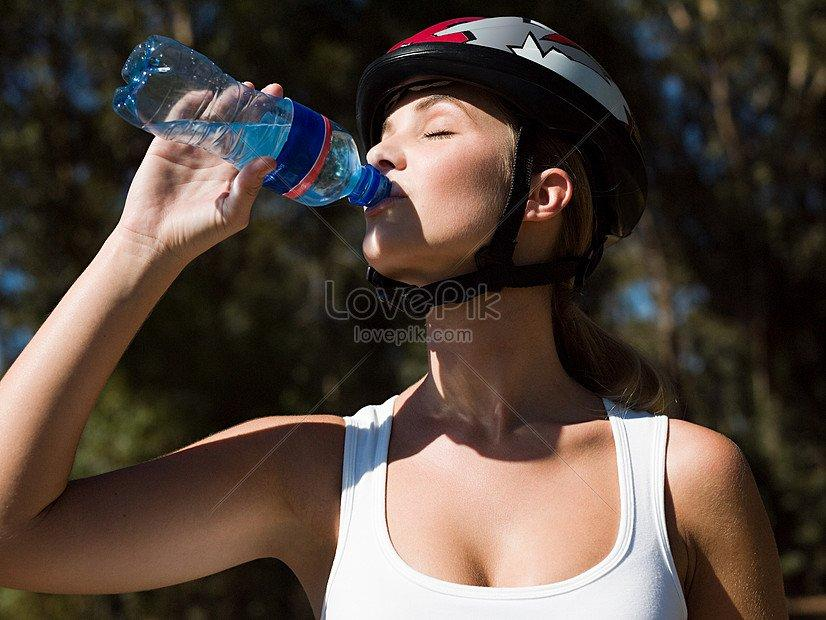Drinking: (111, 30, 572, 271)
